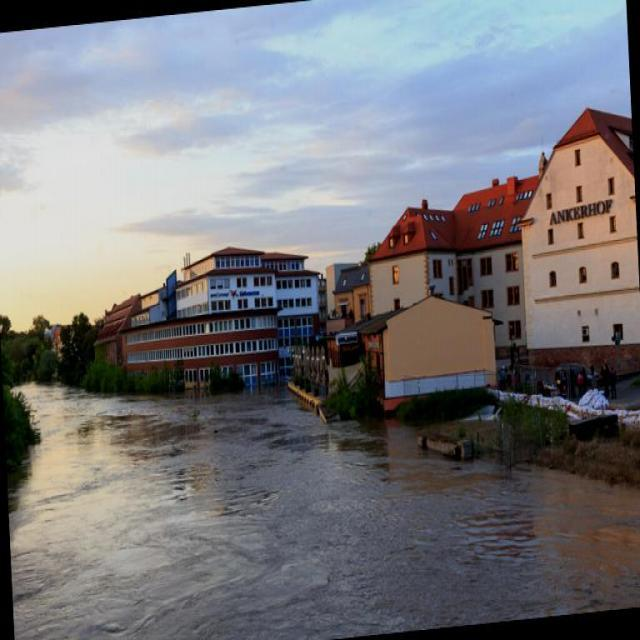flood: (5, 374, 639, 639)
